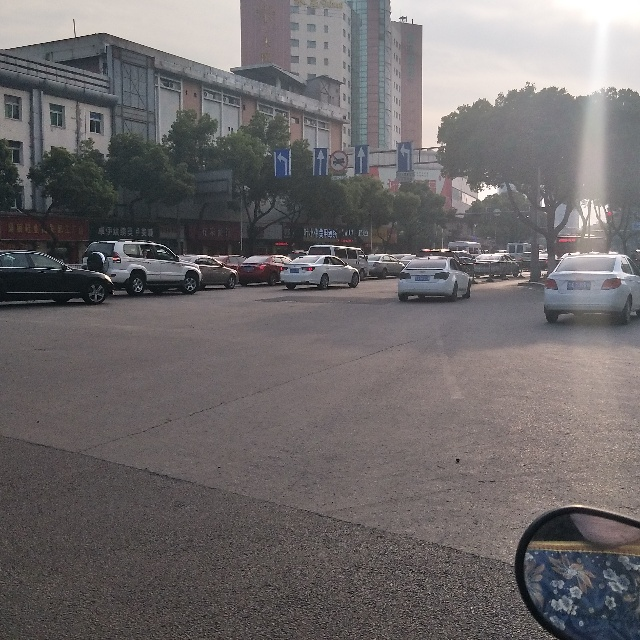left: (273, 149, 291, 178), (397, 141, 412, 172)
straight: (355, 145, 368, 173), (315, 148, 327, 174)
